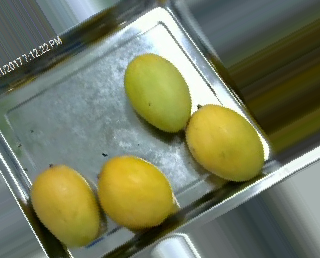Mango: (94, 156, 181, 228), (28, 162, 101, 247), (185, 103, 265, 179), (122, 54, 192, 133)
